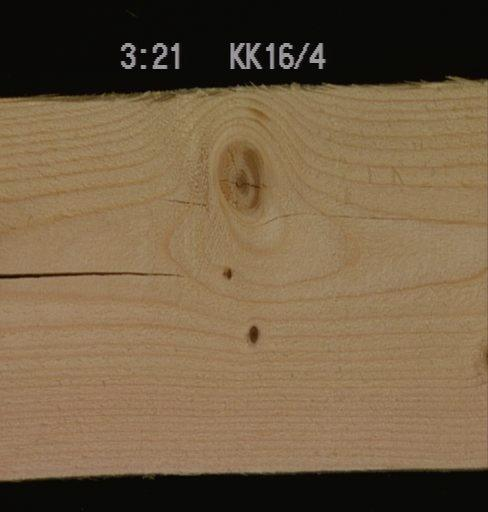small_knot: (246, 323, 259, 345), (219, 263, 233, 281)
sound_knot: (215, 140, 262, 212)
split: (0, 268, 186, 281)
wave: (0, 85, 239, 116)
